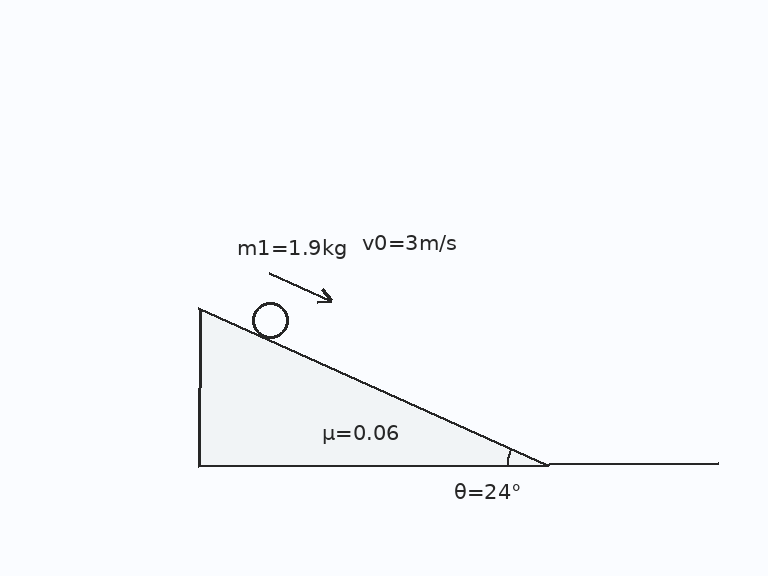ball: (250, 300, 290, 340)
ramp: (197, 307, 550, 466)
